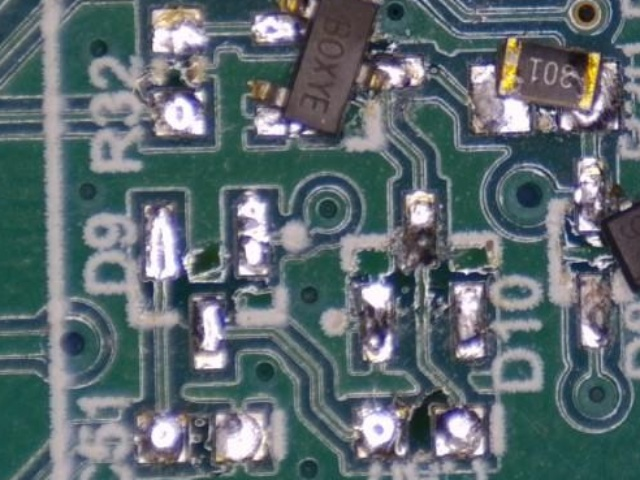pcb_defect: (248, 0, 425, 137), (467, 35, 622, 133), (575, 158, 640, 306)
